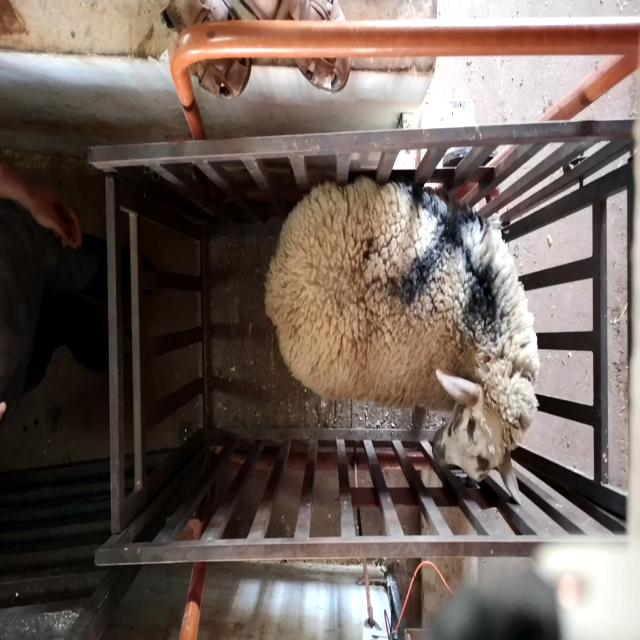sheep: (264, 177, 540, 507)
